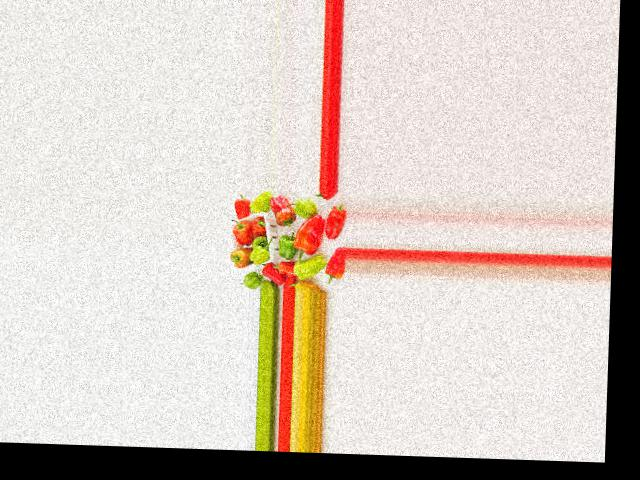bell_pepper: (322, 251, 346, 285)
